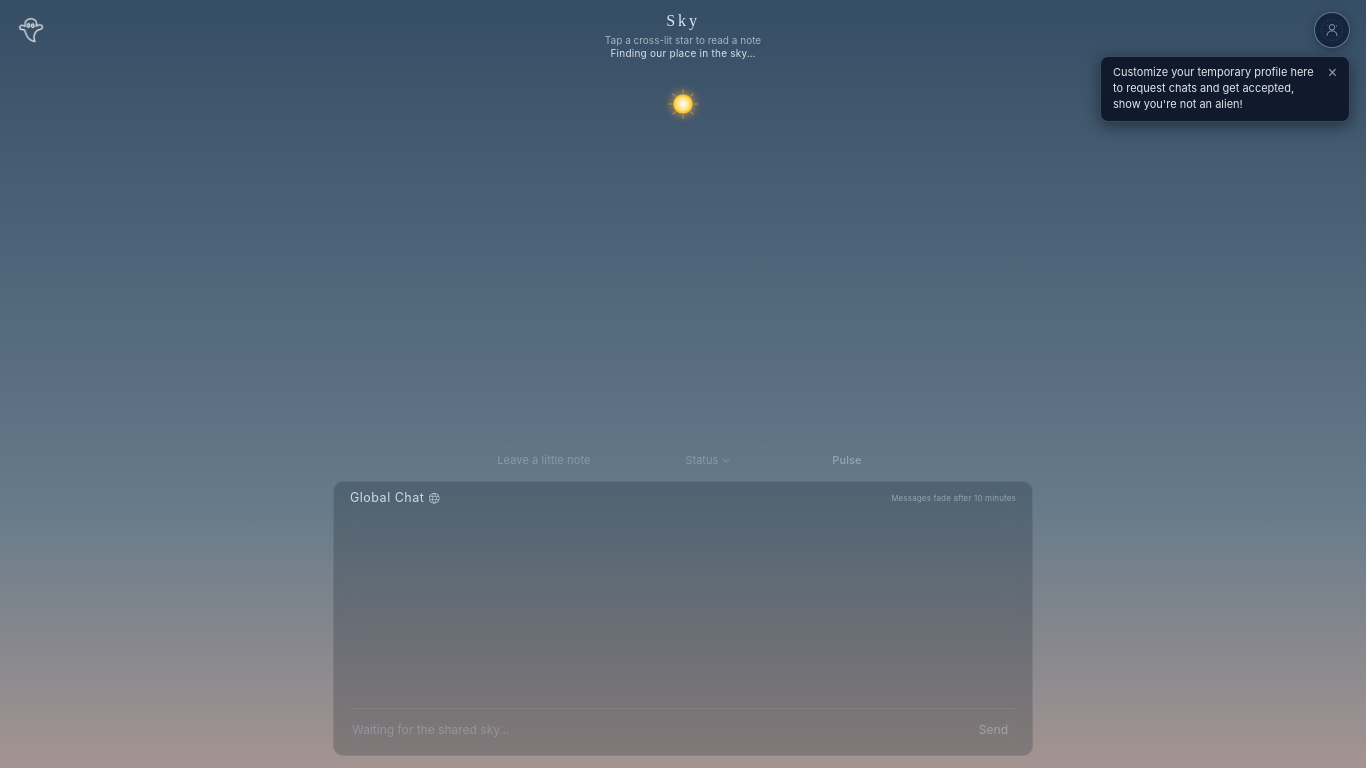
Scenario: Sky Temporary Profile & Mobile Layout Integration › non-blocking entry: does not block user with setup modal and shows onboarding tooltip
Expected: the dialog "Create Your Temporary Profile" is not shown
Expected: the button named "Customize profile" is shown, [1314,12,1350,48]
Note: Dismissing tooltip removes it
Click the button named "Dismiss hint".
click(1332, 73)  # box [1328,65,1337,81]
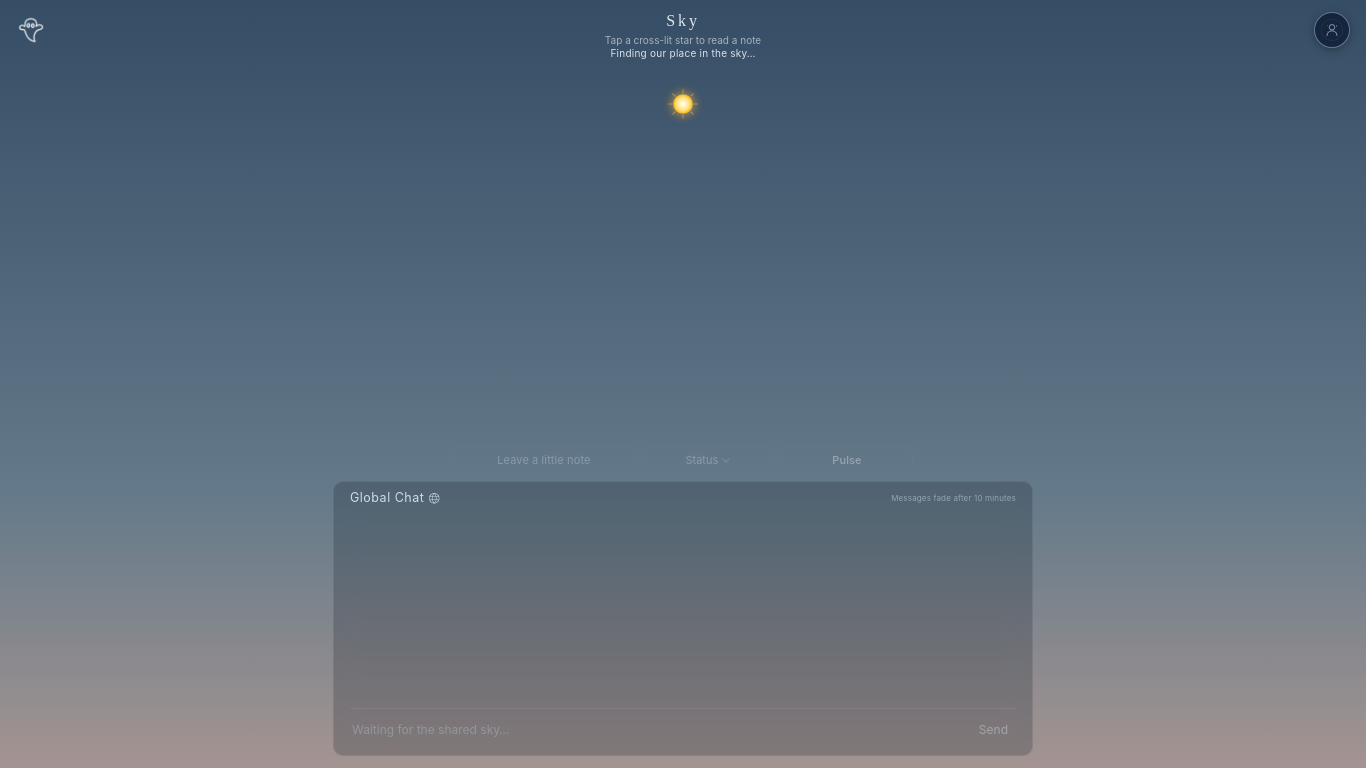
Expected: the tooltip is gone
Note: Clicking top-right trigger opens profile editor on demand
Click the button named "Customize profile".
click(1332, 30)  # box [1314,12,1350,48]
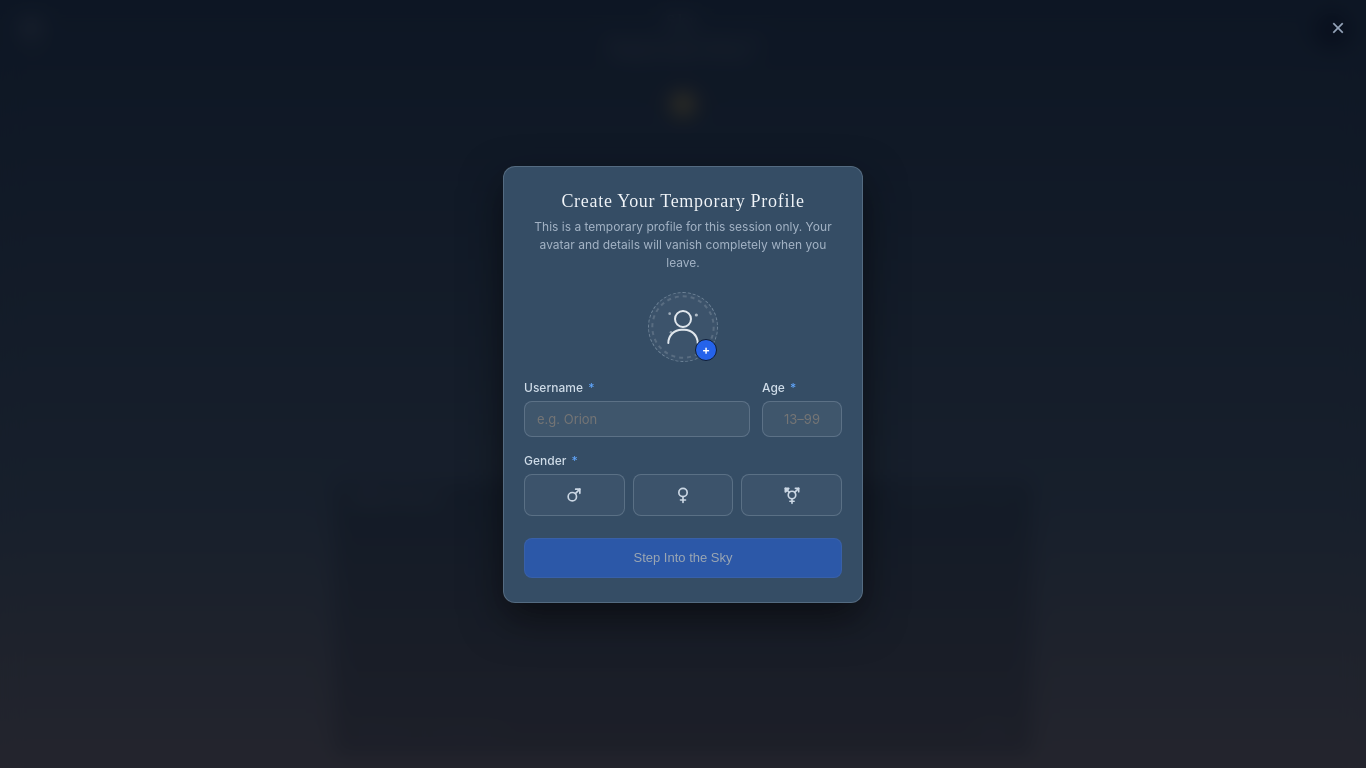
Expected: the dialog is shown
Expected: the text "This is a temporary profile for this session only" is shown, [534,218,832,270]
Type "Alex" into the field labelled "Username *".
click(637, 418); type("Alex")  # box [524,400,750,436]
Type "24" into the number field labelled "Age *".
click(802, 418); type("24")  # box [762,400,842,436]
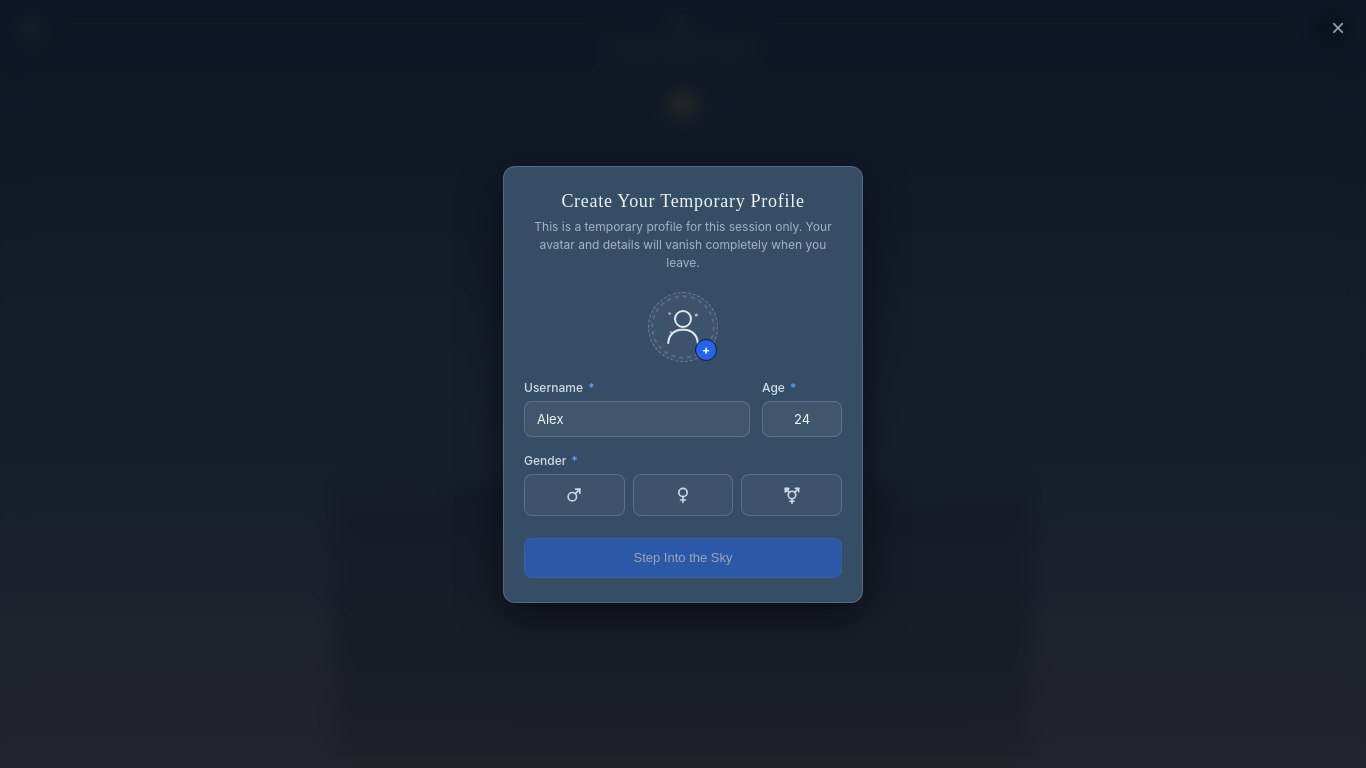
Click the radio button named "Non-binary".
click(792, 494)  # box [741,474,842,516]
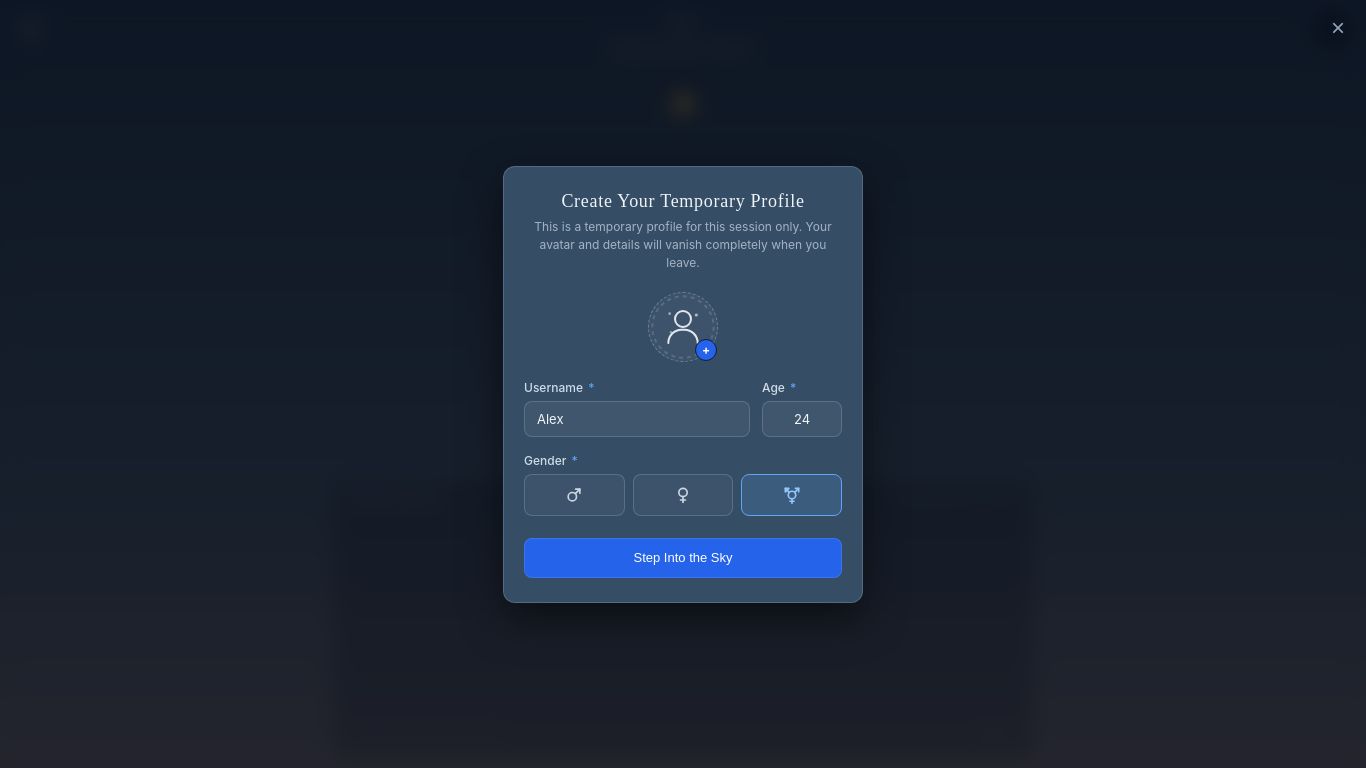
Expected: the button "Step Into the Sky" is enabled
Click the button "Step Into the Sky".
click(683, 558)  # box [524,538,842,578]
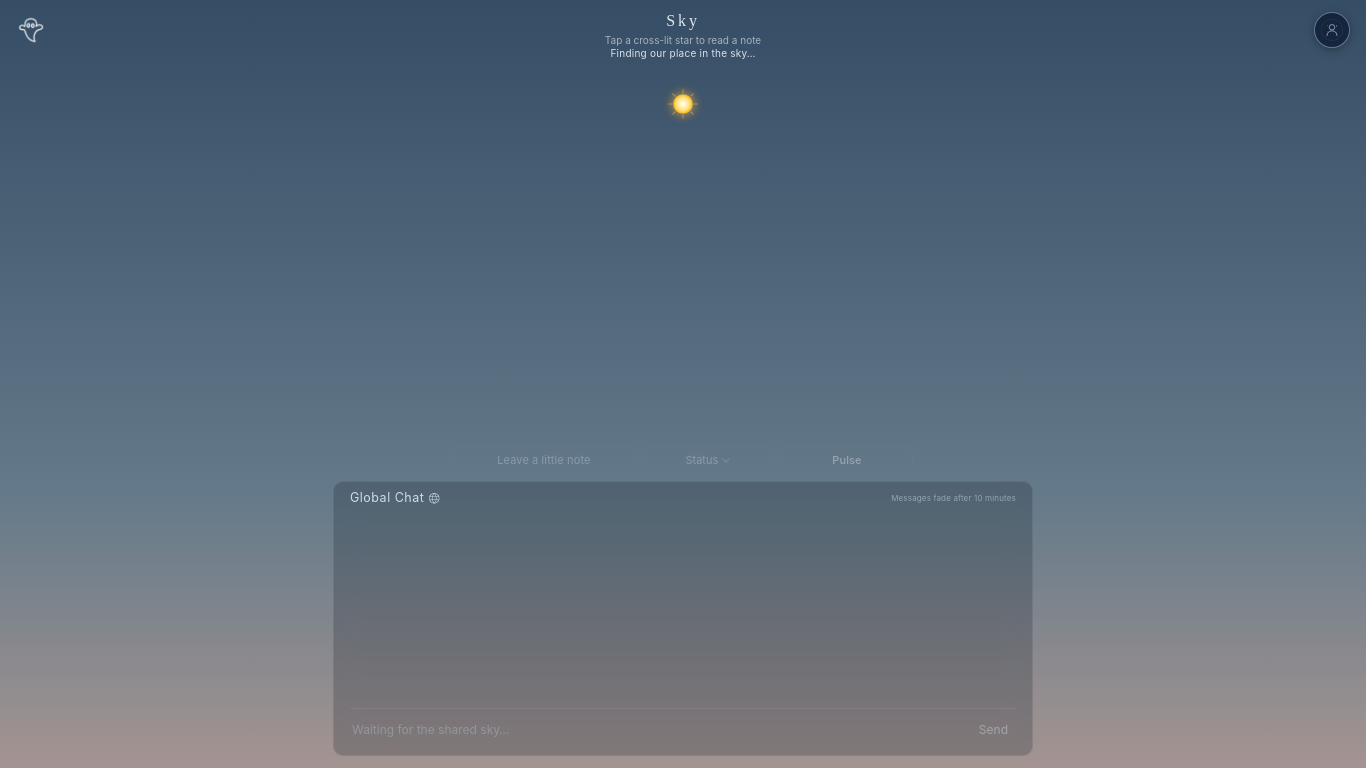
Expected: the heading "Create Your Temporary Profile" is gone
Click the button named "Customize profile".
click(1332, 30)  # box [1314,12,1350,48]
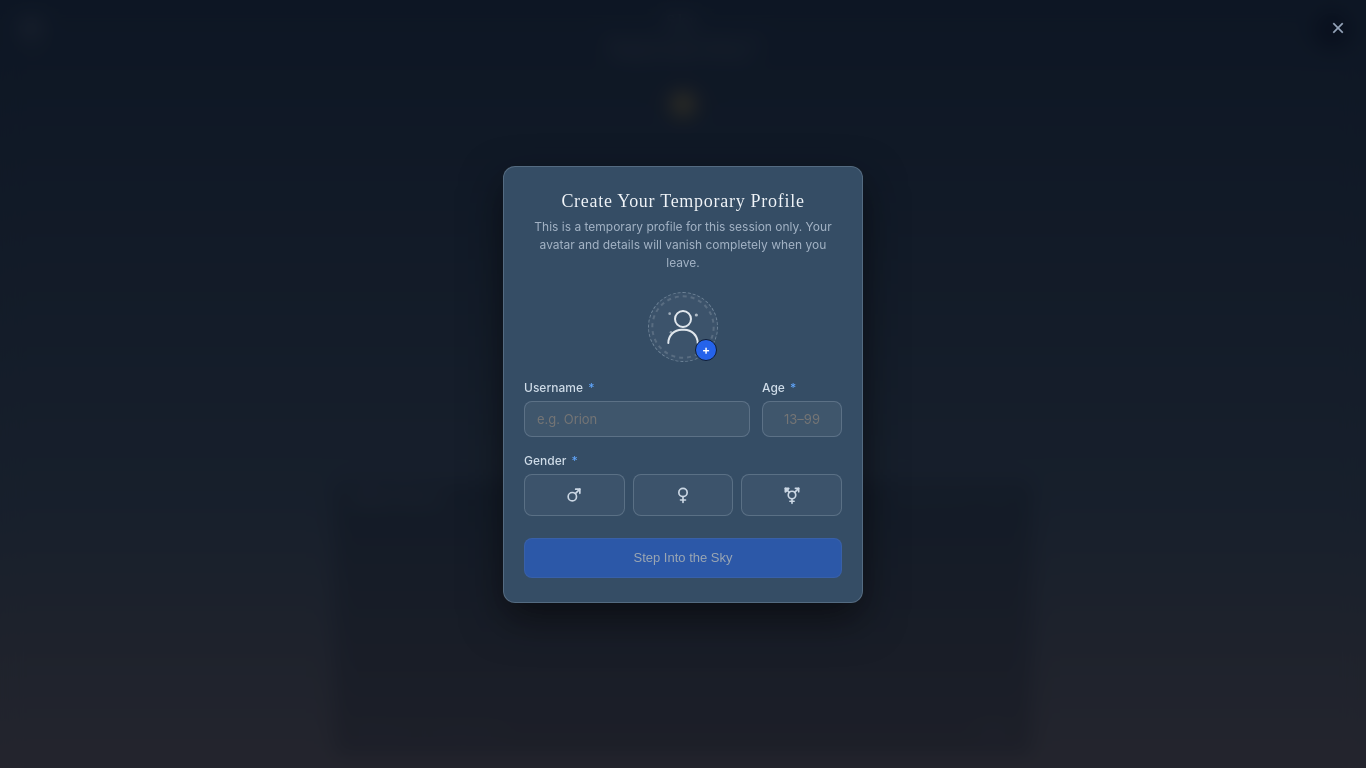
Expected: the field labelled "Username *" is empty, [524,400,750,436]
Expected: the number field labelled "Age *" is not empty, [762,400,842,436]
